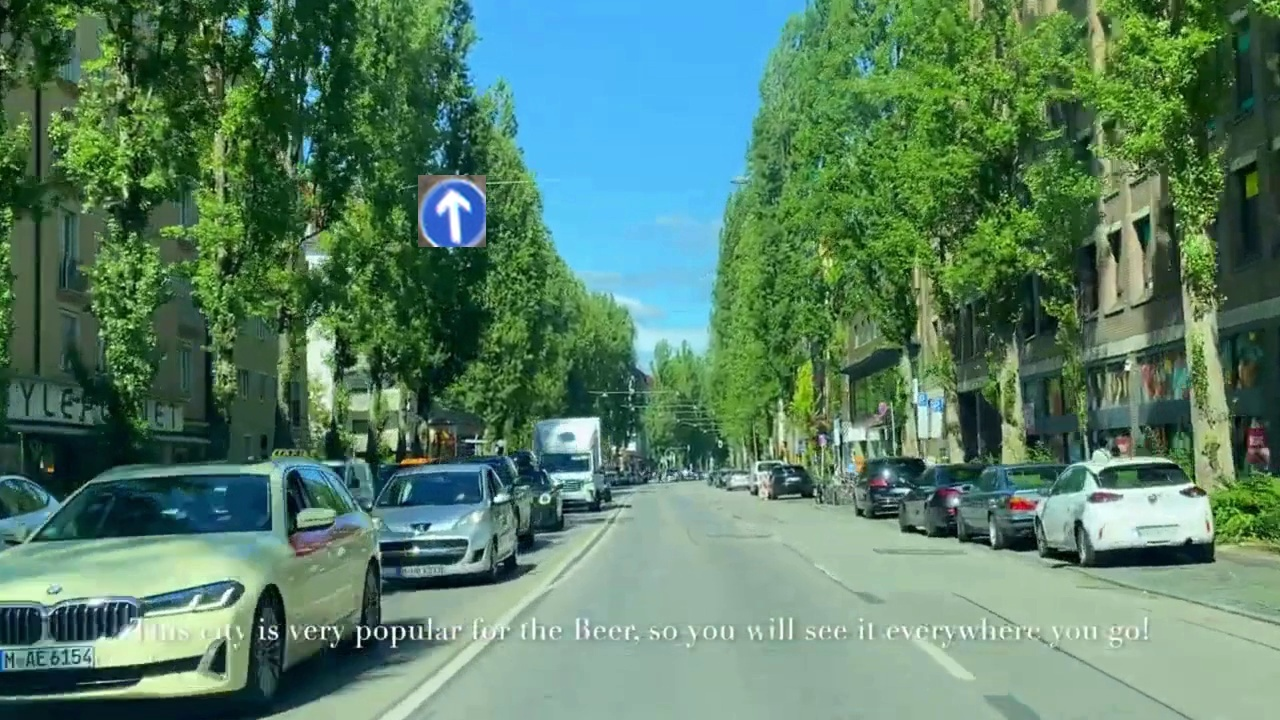Ahead only: (418, 175, 486, 247)
